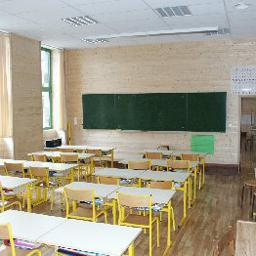Ventana: (40, 48, 55, 128)
